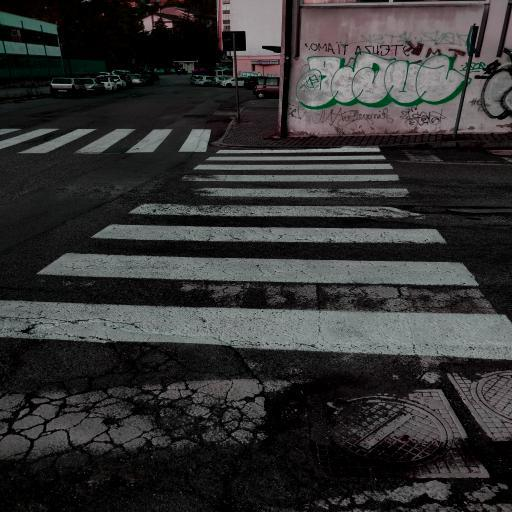crosswalk: (28, 221, 487, 292), (13, 120, 138, 165), (176, 162, 406, 186)
